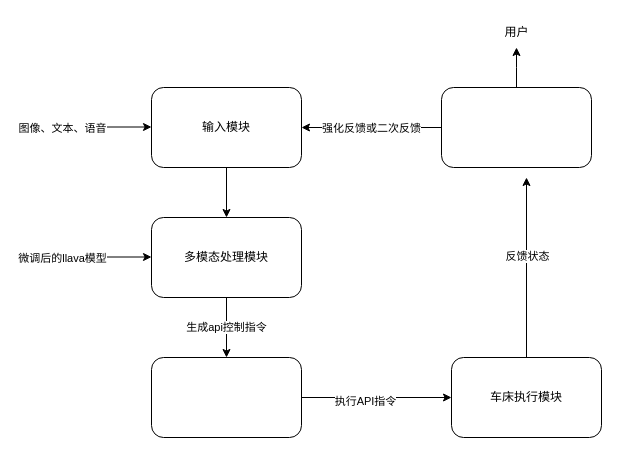
Some shapes in this 619 by 455 pixel diagram are drawn without their labels. The shapes that lost their labels are listed below. From the top down, each one's centre as x and y in pixels, then its label:
At point (516, 127): "反馈模块".
At point (226, 397): "控制指令生成模块".
